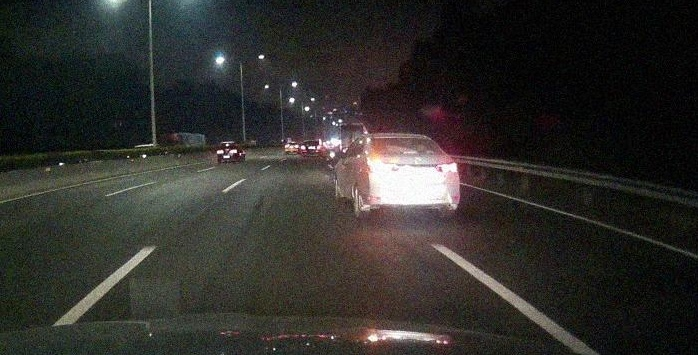L_light: (368, 161, 395, 173)
R_light: (435, 161, 458, 173)
T_light: (403, 150, 417, 155)
night-no: (364, 133, 460, 217)
